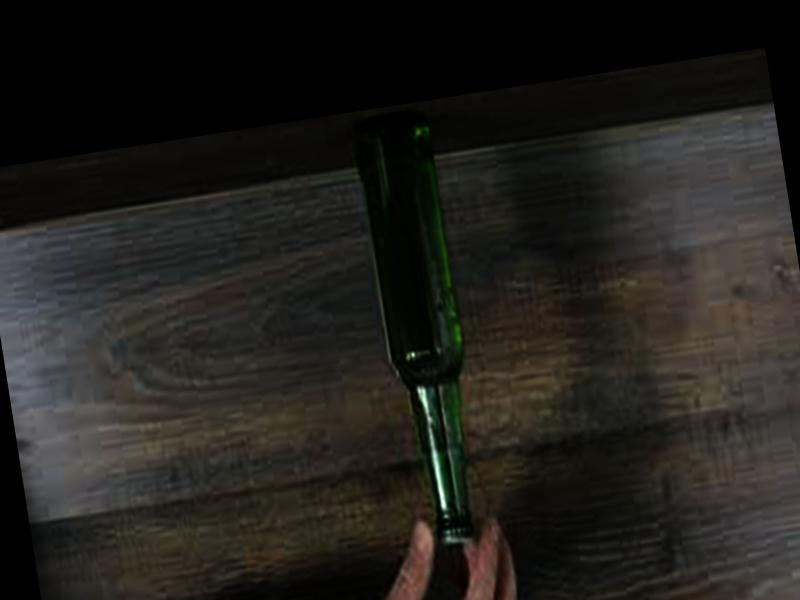Beer: (350, 111, 493, 552)
